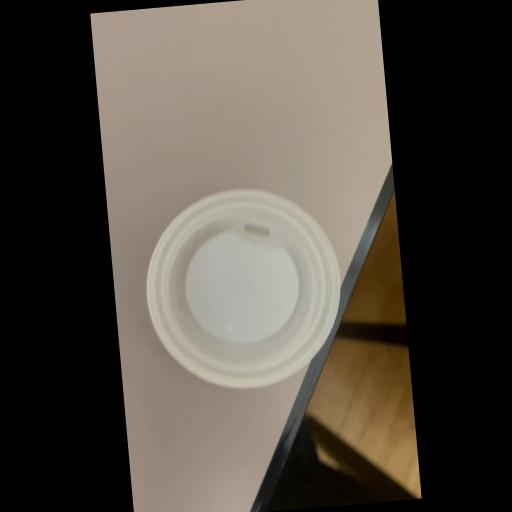lp_cup_lids: (130, 174, 367, 400)
